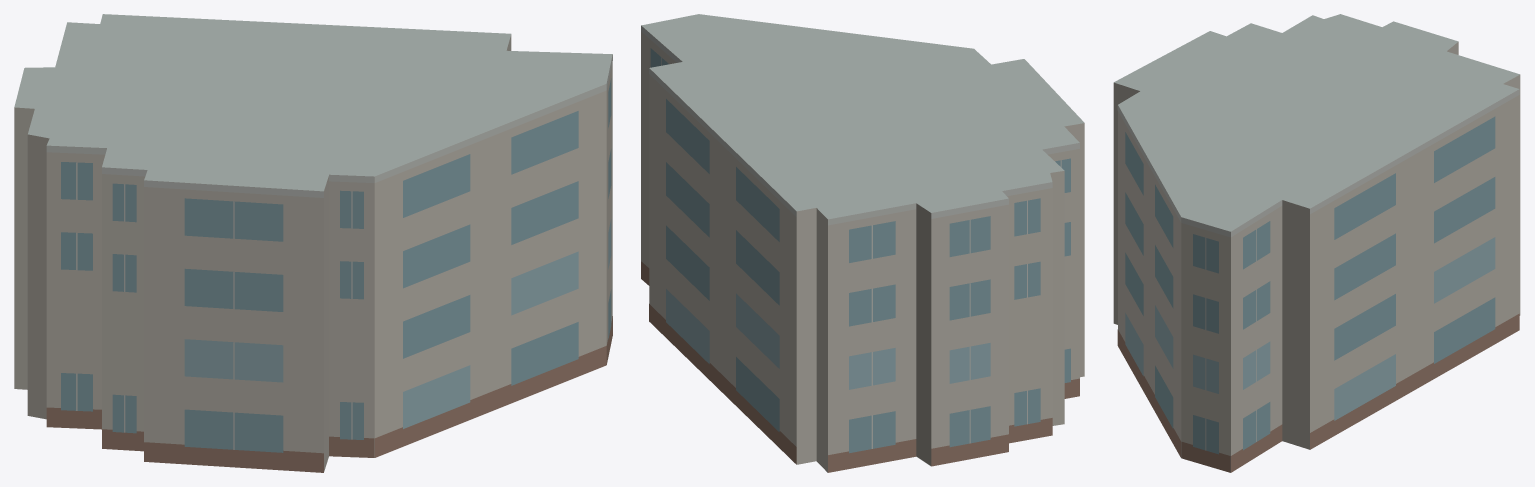
Rendered from survey-upis-32614032.glb.
3 renders of one model, left to right at view 1: azimuth 30°, elevation 25°; view 2: azimuth 150°, elevation 25°; view 3: azimuth 270°, elevation 25°, orthographic. The views are drawn at different scales.
Visible parts, largest first — view 1: survey-upis-32614032.tmp; view 2: survey-upis-32614032.tmp; view 3: survey-upis-32614032.tmp.
Part boxes in pixels (<box>): survey-upis-32614032.tmp: <box>14,14,612,472</box>; survey-upis-32614032.tmp: <box>641,14,1084,472</box>; survey-upis-32614032.tmp: <box>1113,14,1520,472</box>.
Bounding box in the file's own units: 19.96 × 10.3 × 15.76.
